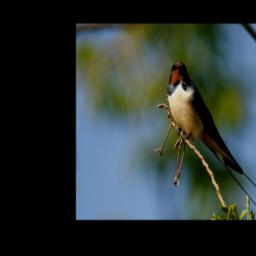Swallow: (168, 61, 256, 213)
